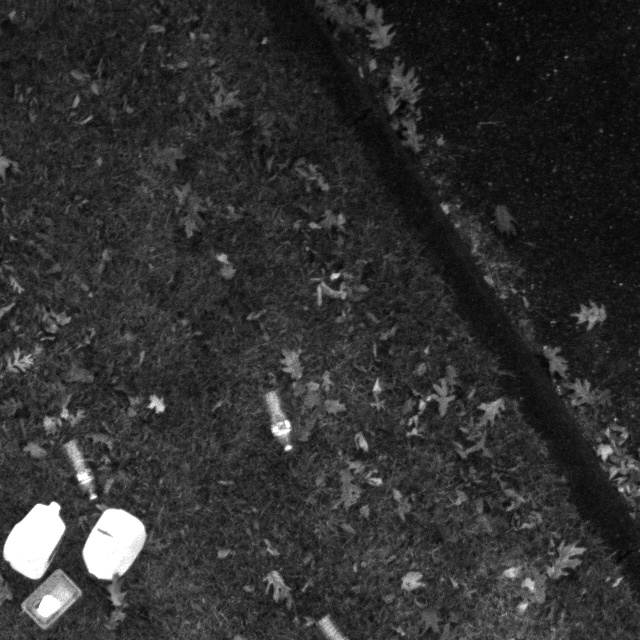bottle: (61, 437, 112, 513), (257, 388, 300, 457)
can: (73, 499, 152, 583), (0, 497, 74, 585)
container: (9, 564, 93, 635)
